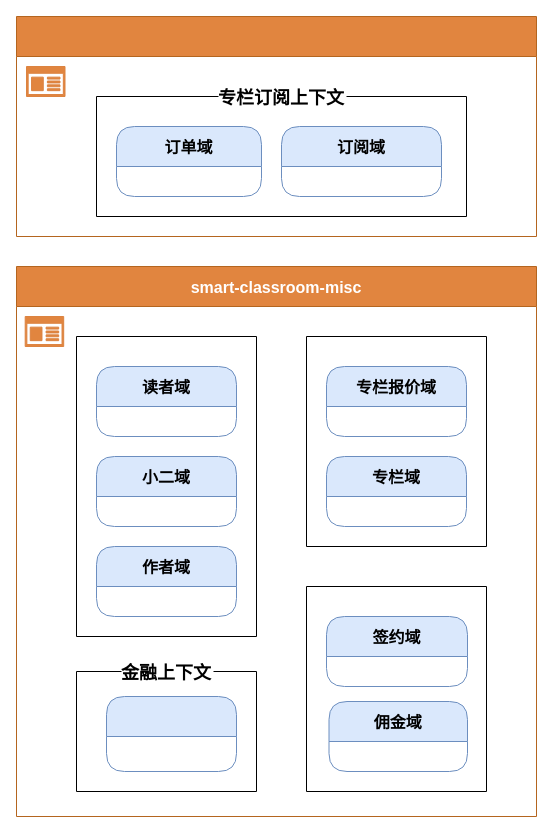
Some shapes in this 553 by 833 pixel diagram are drawn without their labels. Here are the shapes that lost their labels. From the top down, the box of each, then its label:
(16, 16, 536, 236): smart-classroom-subscription
(306, 336, 486, 546): 专栏信息上下文
(76, 336, 256, 636): 用户信息上下文
(306, 586, 486, 792): 签约分佣上下文
(106, 696, 236, 772): 金融域
